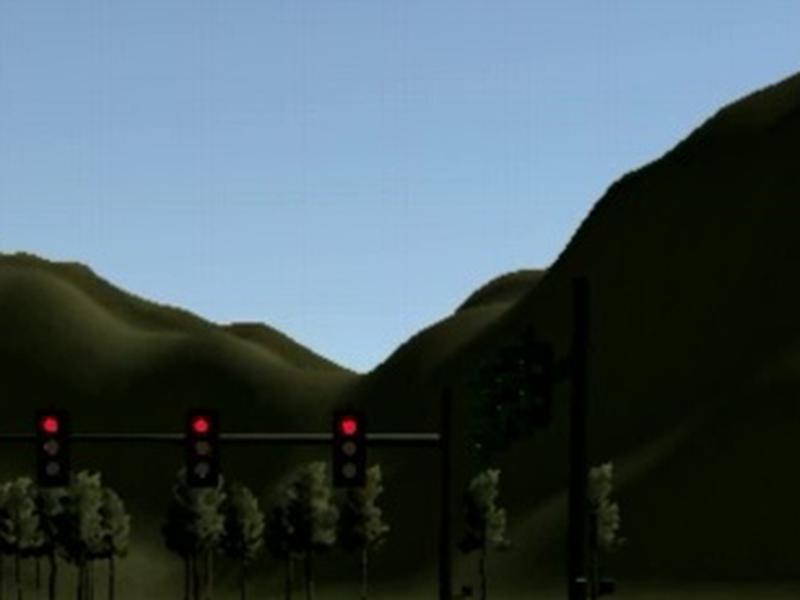Red: (331, 406, 367, 489), (33, 408, 70, 486), (185, 405, 217, 486)
